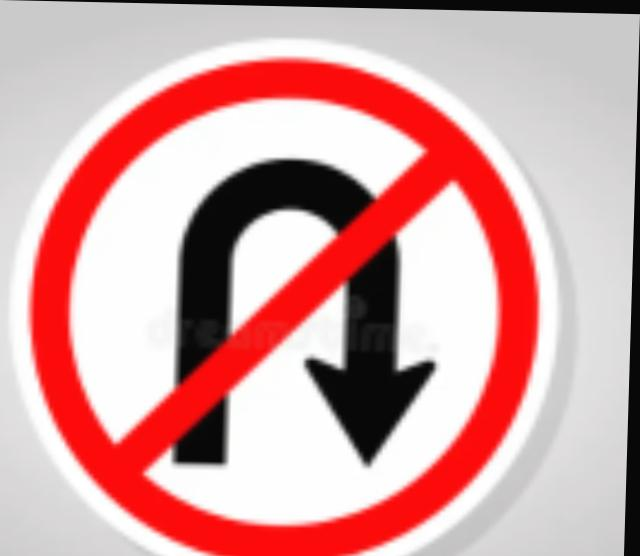not_u_turn_right: (29, 40, 580, 556)
